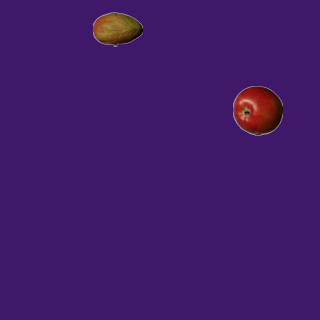Apple Braeburn: (232, 85, 282, 135)
Papaya: (92, 4, 142, 54)
